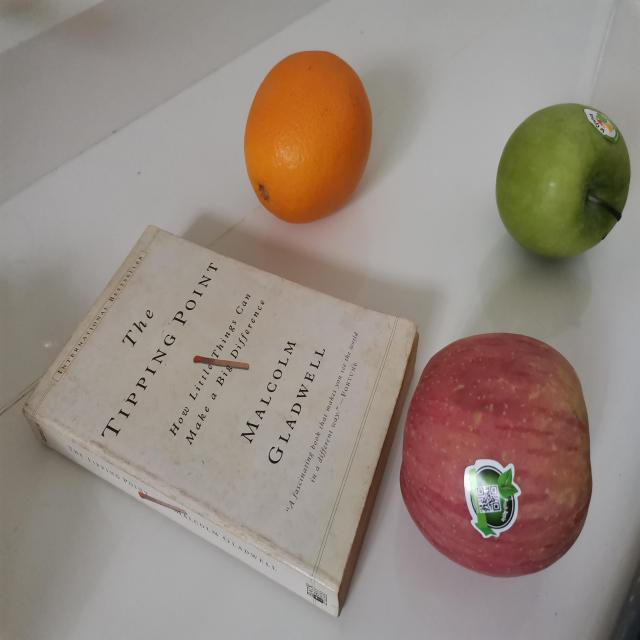apple: (398, 328, 596, 580), (495, 100, 632, 266)
orange: (242, 49, 373, 228)
